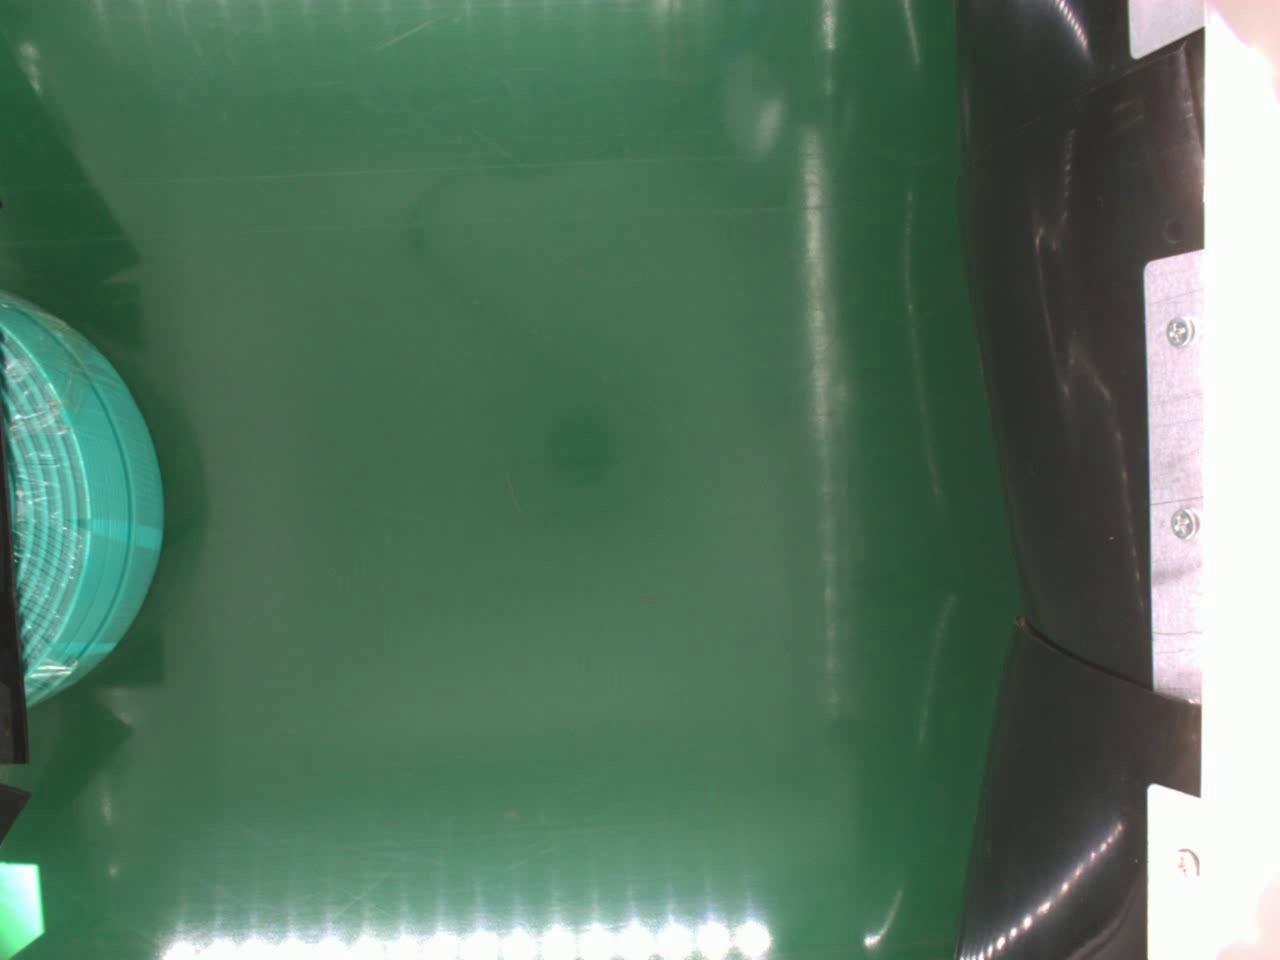green: (0, 288, 161, 706)
